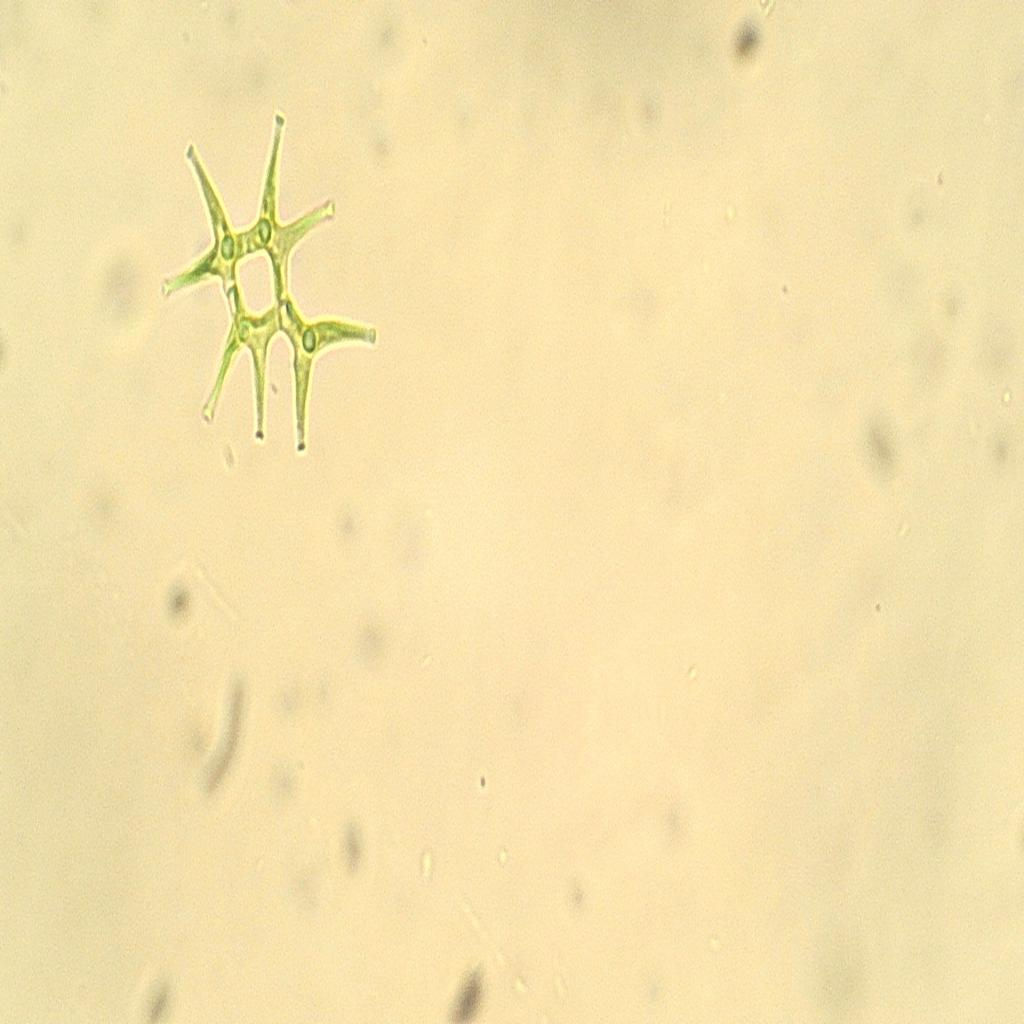Pediastrum_CT: (146, 106, 386, 470)
